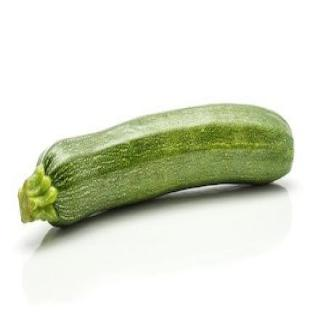Zucchini: (19, 105, 293, 225)
